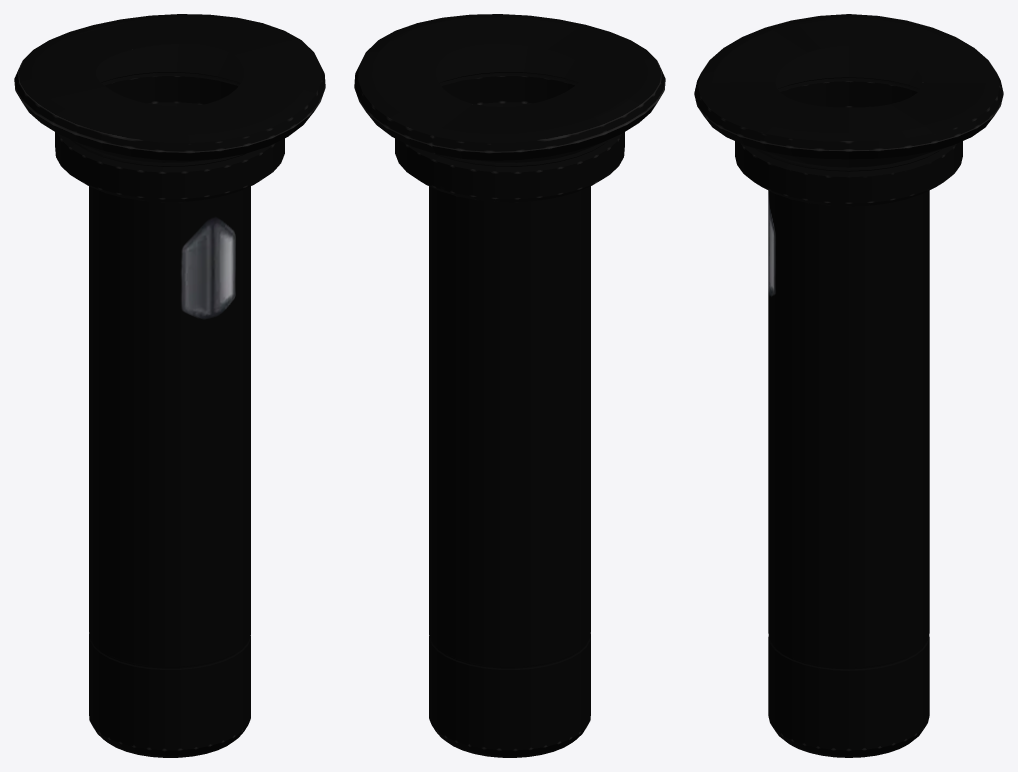
File: BTS_02.glb
3 renders of one model, left to right at view 1: azimuth 30°, elevation 25°; view 2: azimuth 150°, elevation 25°; view 3: azimuth 270°, elevation 25°, orthographic.
Size of the model in its own units: 0.1249 by 0.2911 by 0.1249.
1 material, 1 textured.
